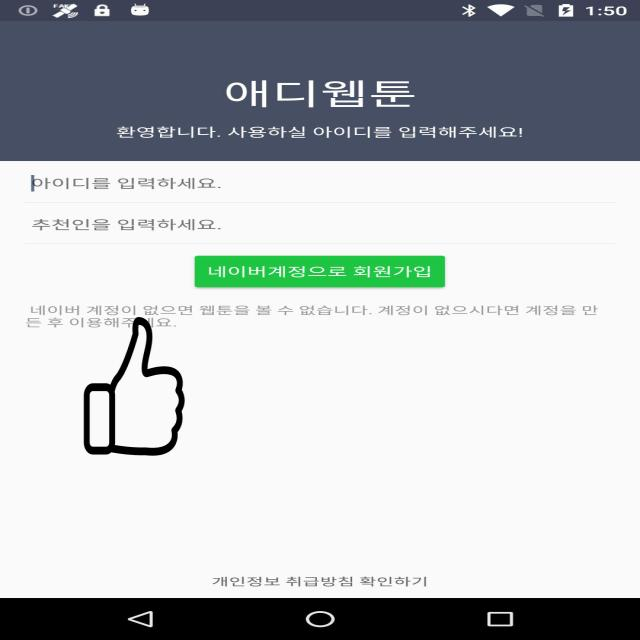privacy zuckering: (82, 317, 186, 456)
